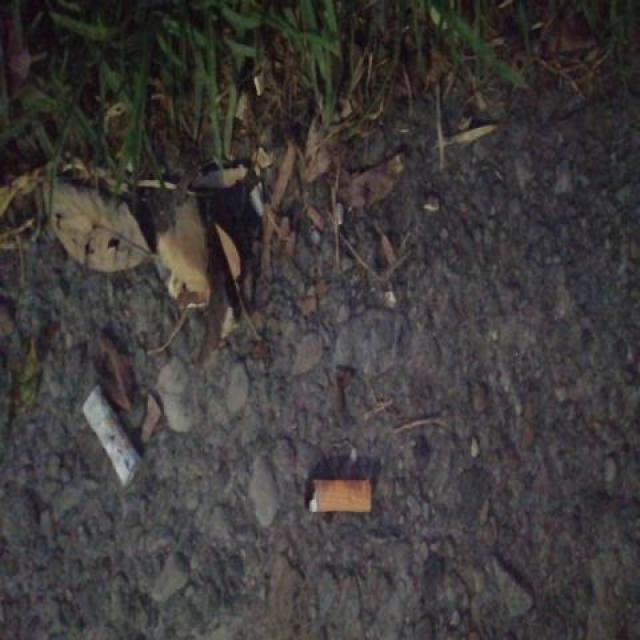non-organic waste: (76, 378, 148, 493), (302, 471, 377, 521)
